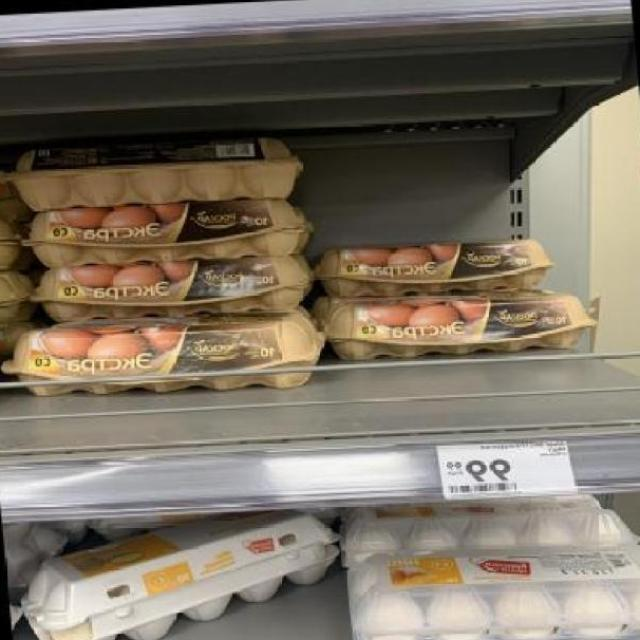Egg: (12, 510, 342, 640), (2, 310, 330, 404), (340, 540, 640, 640), (15, 191, 324, 271), (26, 252, 319, 328), (320, 284, 596, 364), (310, 233, 559, 301), (0, 268, 35, 327), (0, 164, 32, 227), (0, 212, 18, 274)
